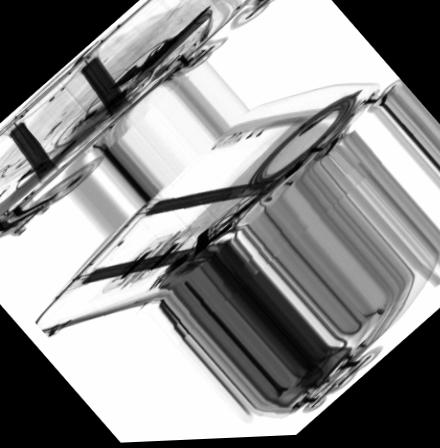Gun: (104, 4, 208, 98)
